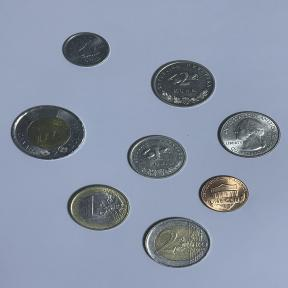1 Euro: (63, 184, 133, 234)
2 Euro: (140, 214, 214, 272)
Canda-10cent-: (58, 29, 114, 72)
Canda-2Dollar-: (6, 100, 90, 164)
Croatia-2Kune-: (148, 57, 218, 111)
US-1cent-: (195, 172, 251, 216)
US-25cent-: (214, 108, 285, 162)
